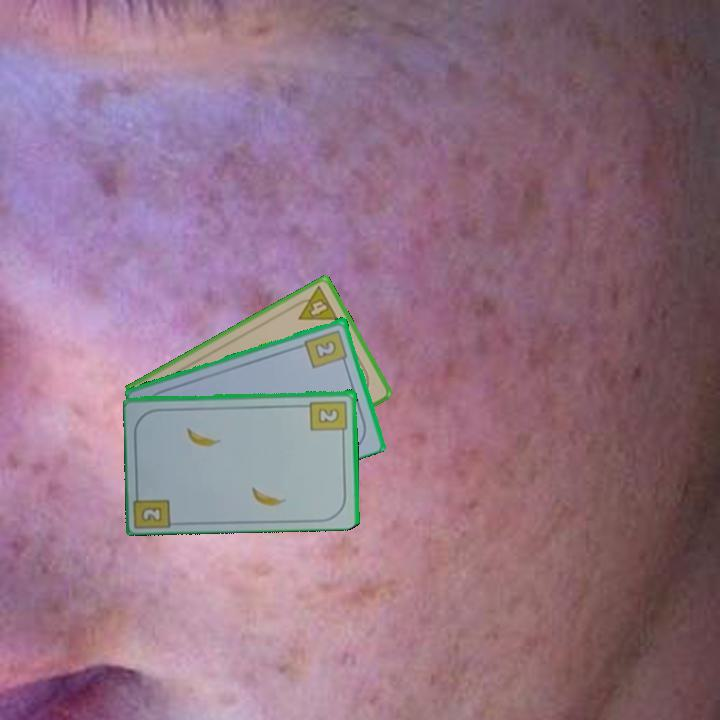2b: (302, 326, 350, 371), (133, 485, 175, 529), (307, 397, 350, 439)
4p: (289, 283, 341, 323)
